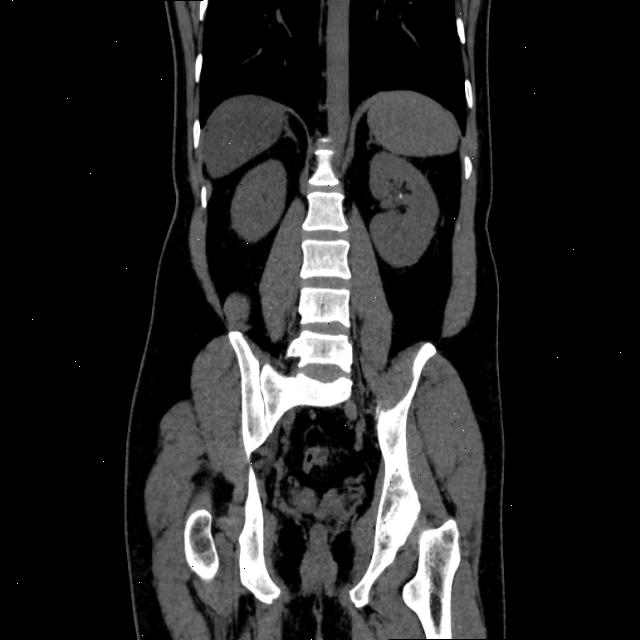kidneystone: (398, 187, 411, 199)
